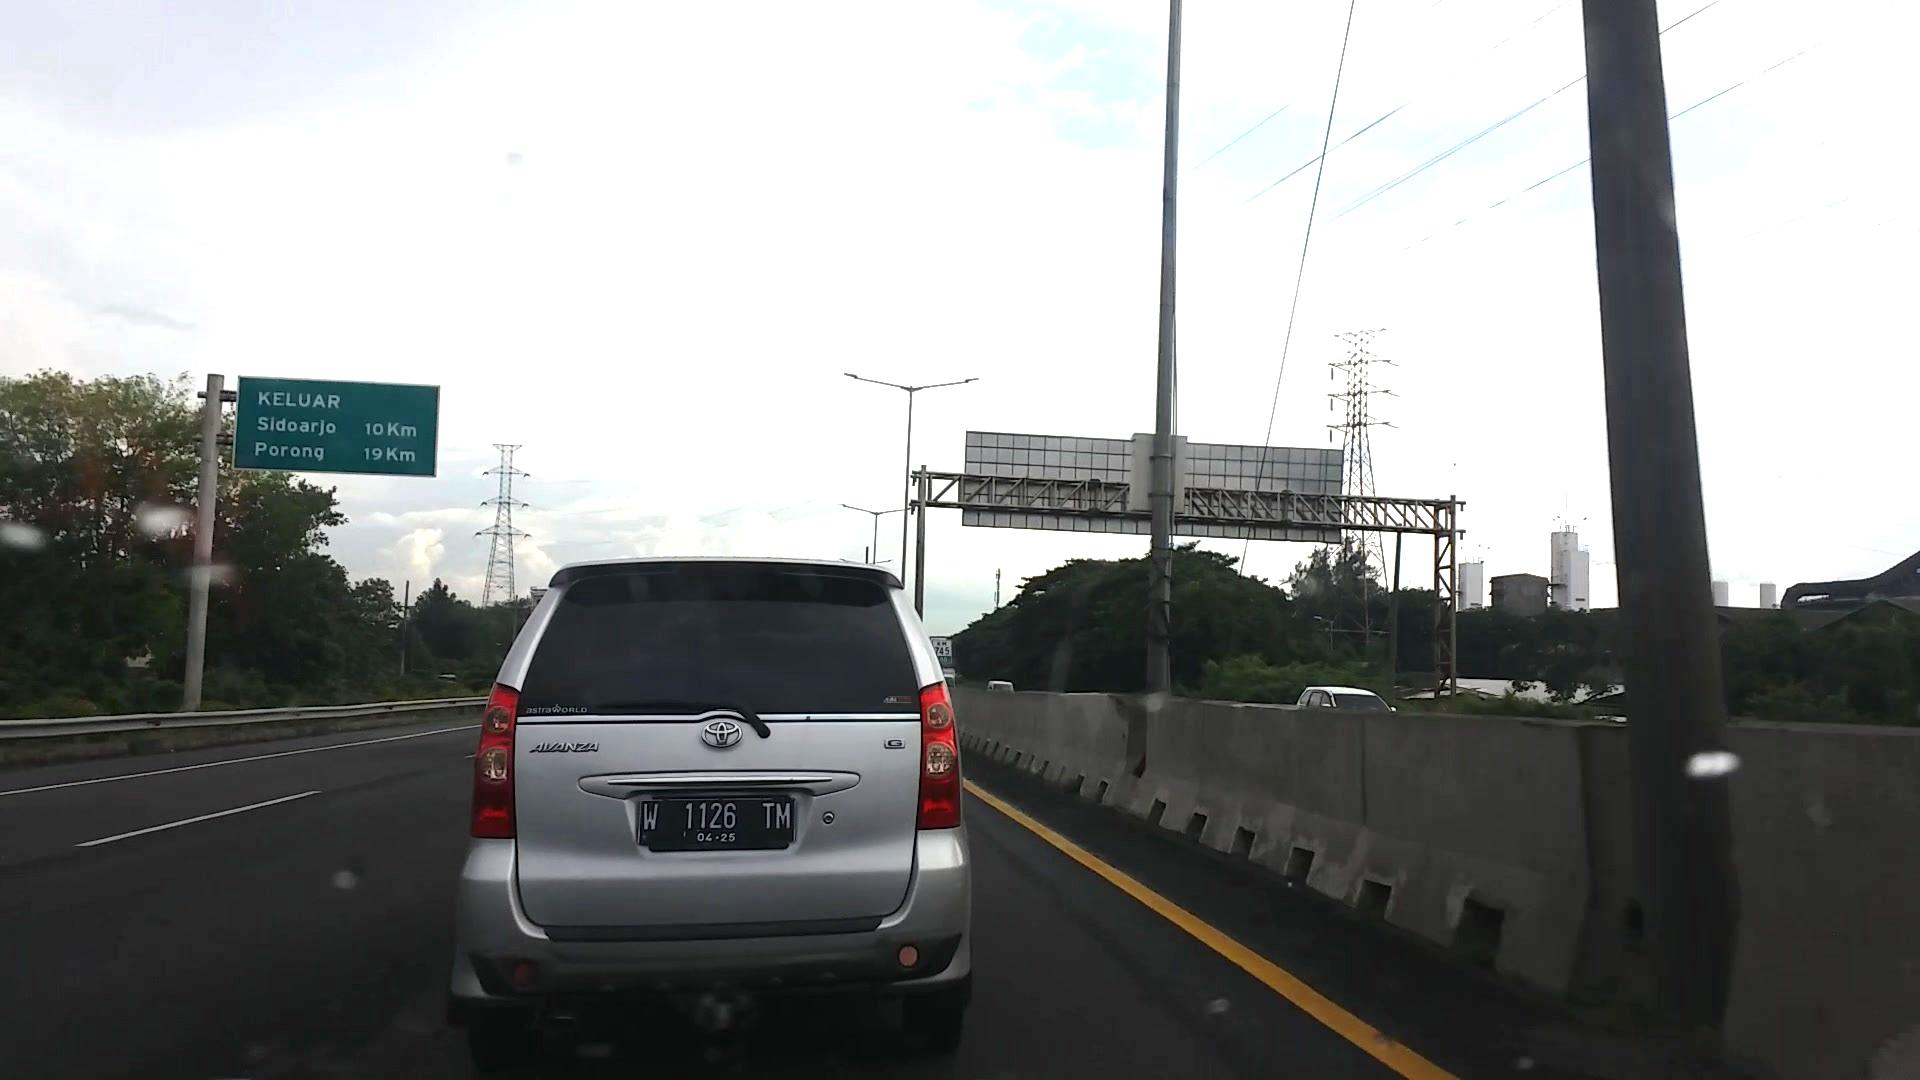plate_positive: (638, 799, 795, 843)
